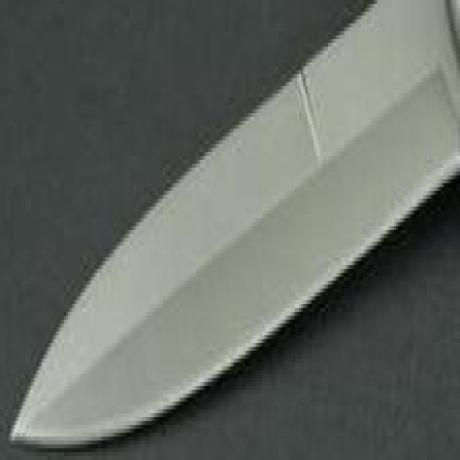weapon: (7, 0, 460, 451)
